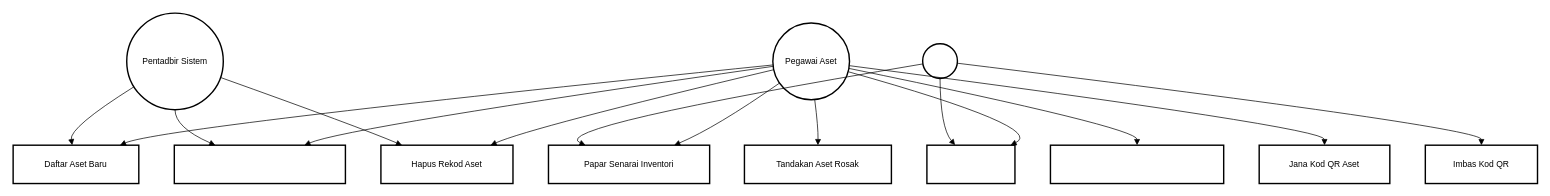
This 1550x196 diagram has some shape labels left out. Here are the shapes that lost their labels. From the top down, the centre of each, then its label:
the point at 940,61: Staff
the point at 259,164: Kemaskini Maklumat Aset
the point at 970,164: Cari Aset
the point at 1136,164: Tandakan Aset Dilupuskan
